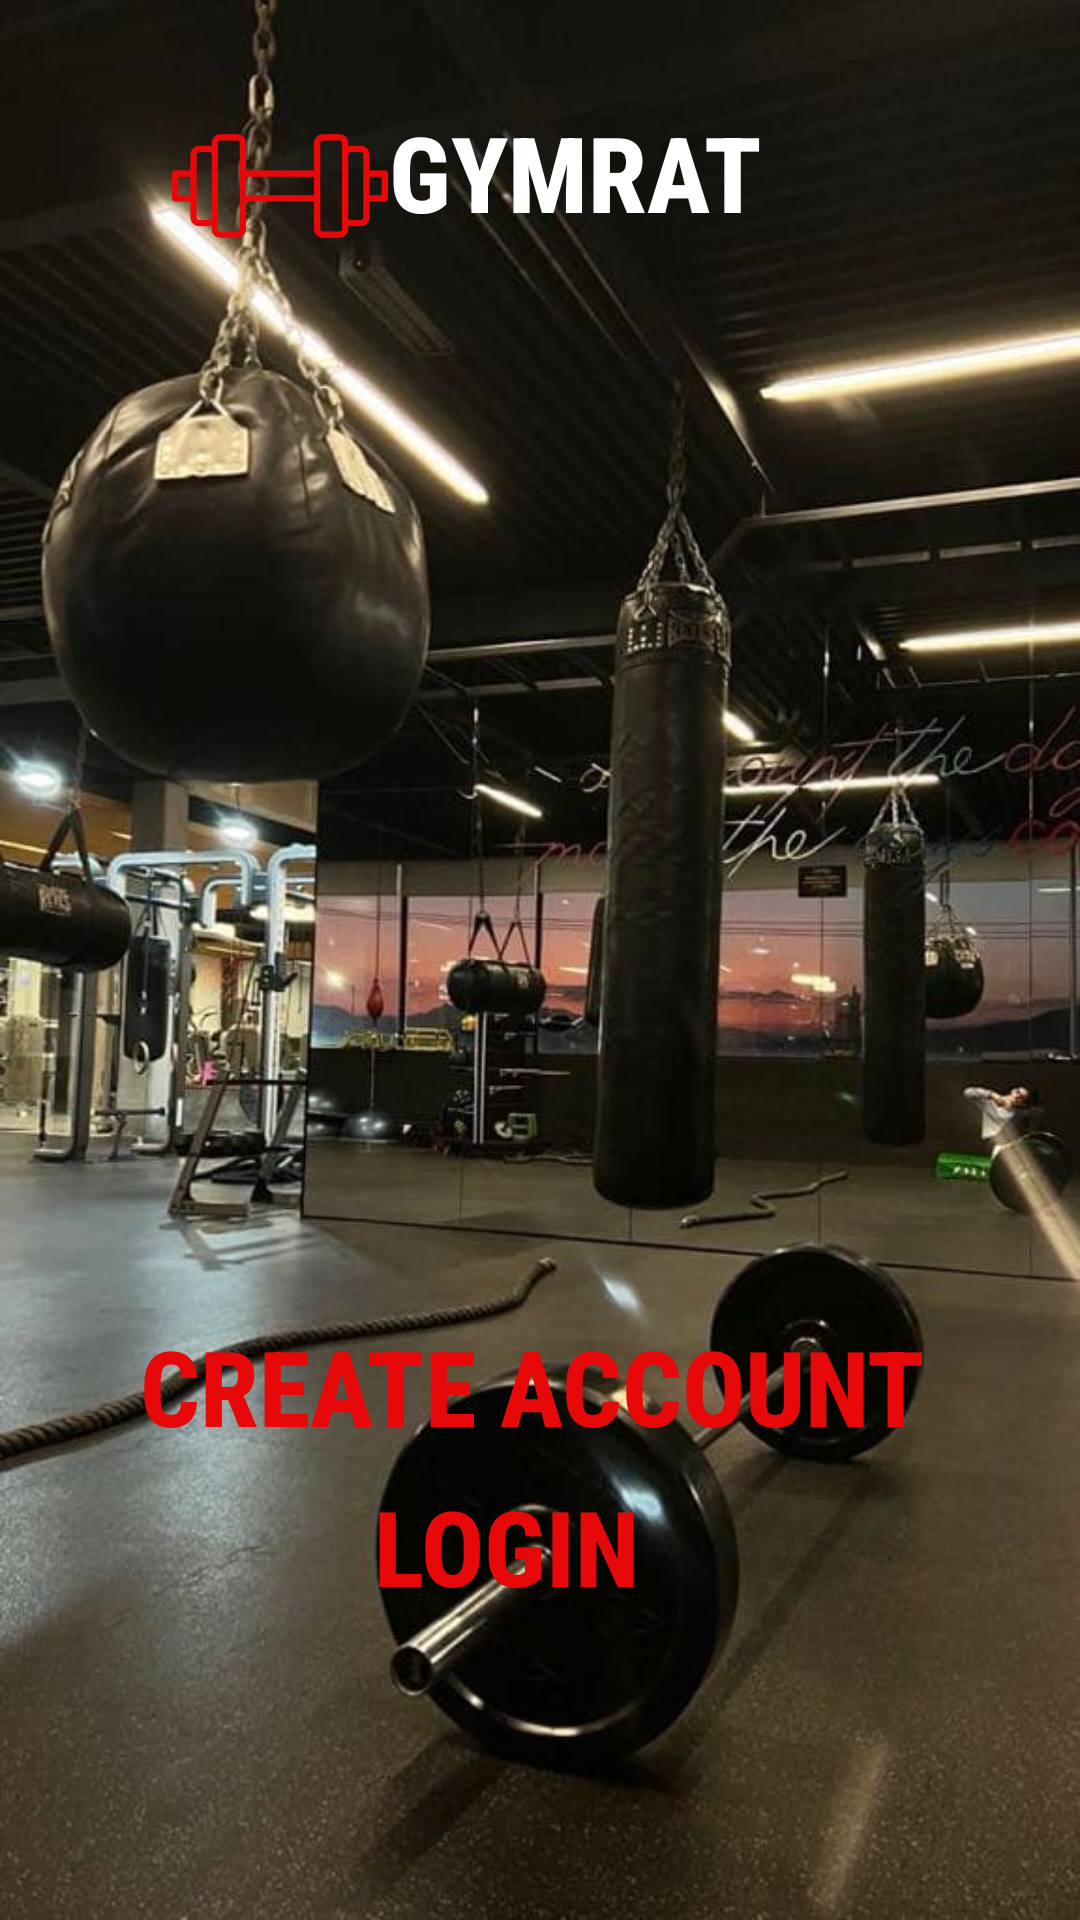

Named icons in this screenshot (1080 × 1920) and their centers, (x,y):
imgdumbell: (281,186)
